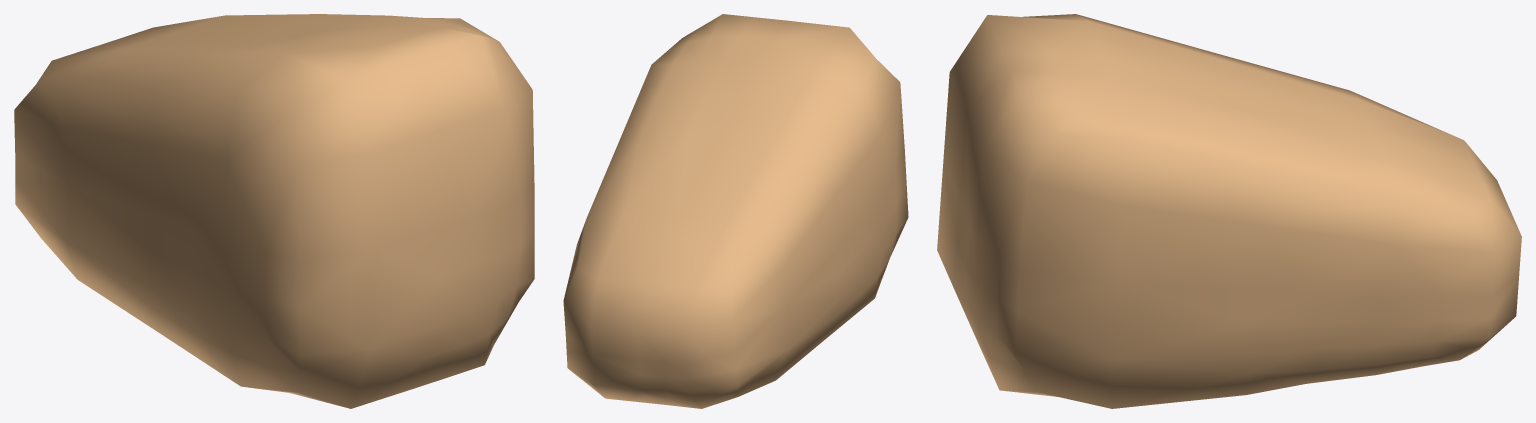
File: ring_03_r.dae
3 views of the same model, side by side, from view 1: azimuth 30°, elevation 25°; view 2: azimuth 150°, elevation 25°; view 3: azimuth 270°, elevation 25° (orthographic). The views are drawn at different scales.
Parts seen in each view (by area): view 1: skin_geo_ring_03_r; view 2: skin_geo_ring_03_r; view 3: skin_geo_ring_03_r.
Part boxes in pixels (x1,y1,x2,y2): skin_geo_ring_03_r: [14, 14, 534, 408]; skin_geo_ring_03_r: [563, 14, 908, 408]; skin_geo_ring_03_r: [937, 14, 1521, 408].
Size of the model in its own units: 0.0172 by 0.0299 by 0.0185.
